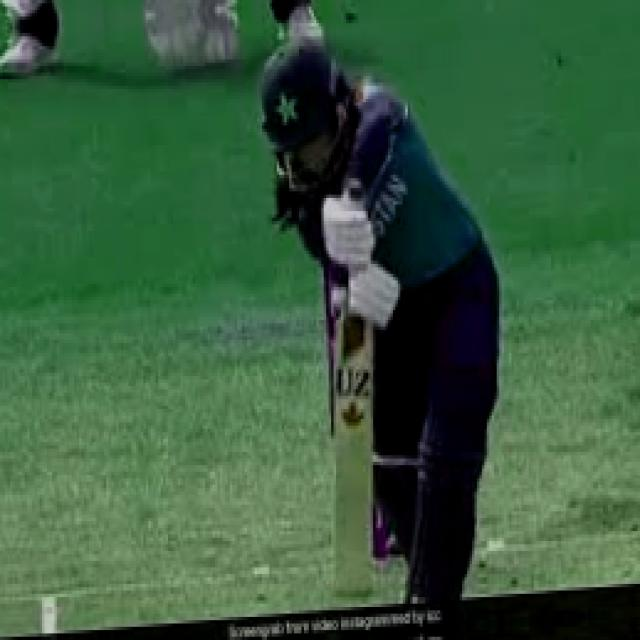toe: (316, 555, 388, 610)
